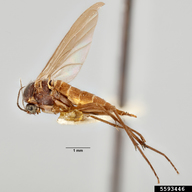Fruit fly: (13, 53, 153, 177)
